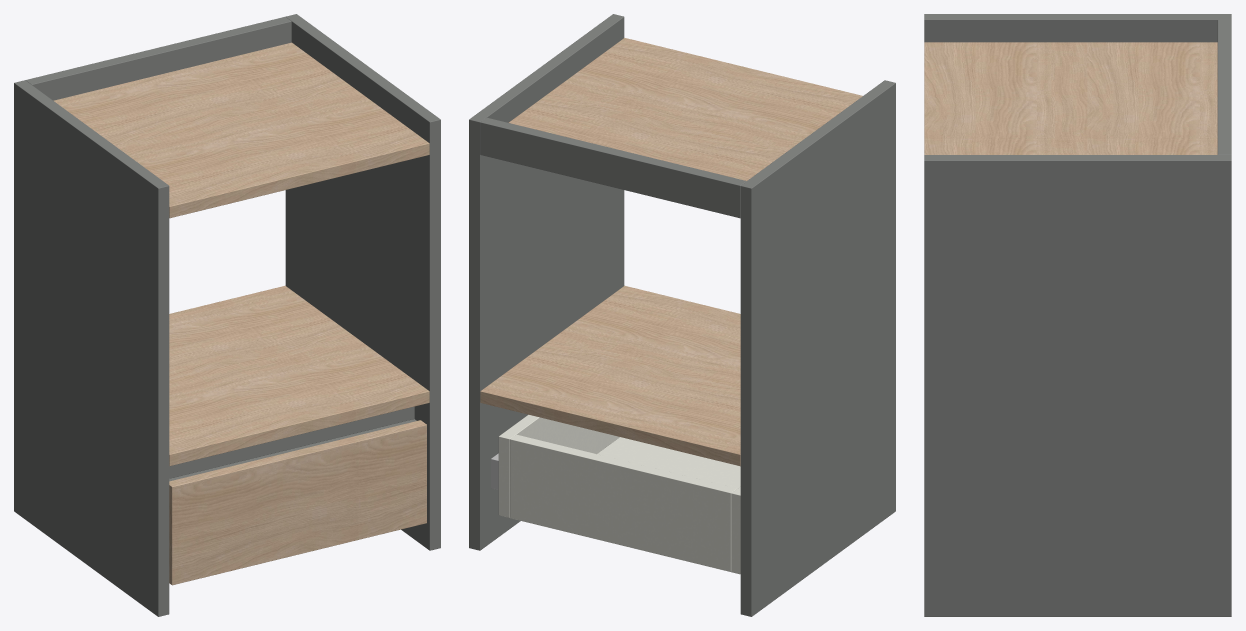
The model's file is mueble_01.glb.
The picture shows the model from 3 angles, left to right: view 1: azimuth 30°, elevation 25°; view 2: azimuth 150°, elevation 25°; view 3: azimuth 270°, elevation 25°; orthographic projection. The views are drawn at different scales.
Parts seen in each view (by area): view 1: Mesh19, Mesh10, Mesh20, Mesh8, Drawer_1, Mesh7, Mesh6, Mesh9; view 2: Mesh19, Mesh20, Mesh8, Mesh10, Drawer_1, Mesh7; view 3: Mesh20, Mesh10, Mesh19, Mesh7.
Part boxes in pixels (x1,y1,x2,y2): Mesh19: [14, 80, 169, 616]; Mesh10: [53, 42, 429, 218]; Mesh20: [285, 14, 440, 550]; Mesh8: [169, 285, 429, 466]; Drawer_1: [169, 420, 426, 585]; Mesh7: [25, 16, 291, 100]; Mesh6: [169, 406, 414, 478]; Mesh9: [169, 419, 416, 481]; Mesh19: [740, 80, 895, 616]; Mesh20: [469, 14, 624, 550]; Mesh8: [480, 285, 740, 466]; Mesh10: [508, 38, 862, 180]; Drawer_1: [498, 414, 740, 574]; Mesh7: [480, 117, 746, 218]; Mesh20: [924, 155, 1231, 616]; Mesh10: [924, 42, 1217, 154]; Mesh19: [924, 14, 1231, 42]; Mesh7: [1217, 20, 1231, 154].
Bounding box in the file's own units: 0.45 × 0.652 × 0.398.
Materials: 4 (4 with a texture image).
